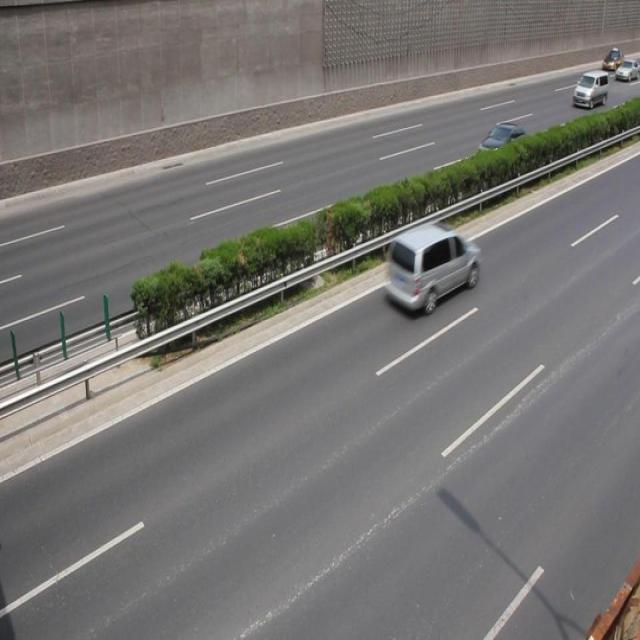car: (384, 221, 481, 315), (475, 120, 526, 166)
truck: (572, 70, 608, 108)
